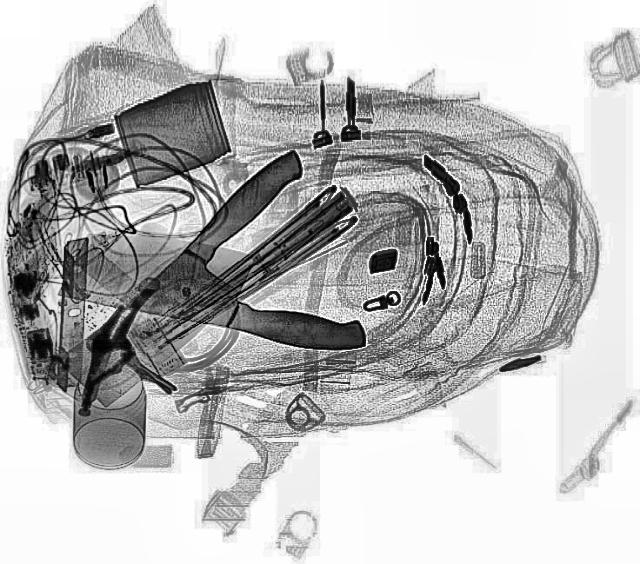Knife: (40, 144, 354, 410), (53, 218, 383, 358)
